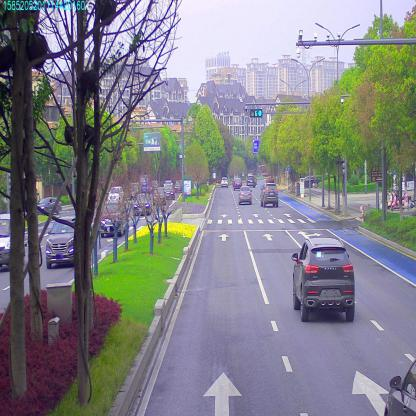traffic-light: (250, 109, 260, 118)
